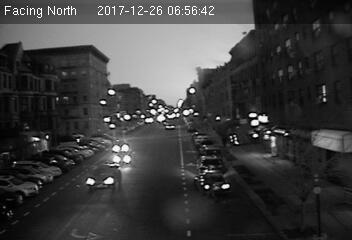car: (190, 167, 231, 197), (86, 163, 123, 190), (112, 151, 138, 165), (111, 142, 134, 154)
